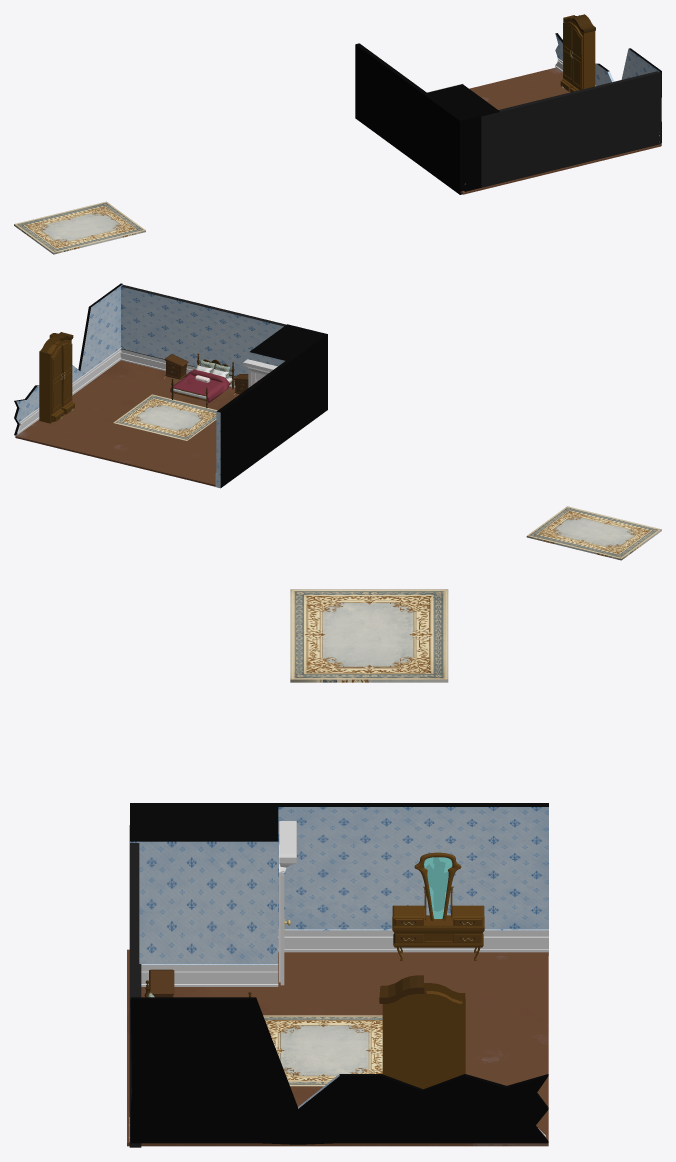
Rendered from testroombedroom.glb.
The picture shows the model from 3 angles, top to bottom: view 1: azimuth 30°, elevation 25°; view 2: azimuth 150°, elevation 25°; view 3: azimuth 270°, elevation 25°; orthographic projection. The views are drawn at different scales.
Parts seen in each view (by area): view 1: floor.003, floor.004, rug.001, floor, floor.005, Plane.015, handle_r, closetDoors; view 2: floor, floor.004, floor.003, floor.005, rug.001, rug, Plane.015, Plane, closetDoors, handle_r; view 3: floor.004, floor.005, floor, rug.001, Plane.015, rug, Cube.002, floor.003, Plane.029, Plane.017, Plane.002.
Part boxes in pixels (<box>): floor.003: <box>481,71,661,187</box>; floor.004: <box>355,43,499,194</box>; rug.001: <box>14,201,145,254</box>; floor: <box>460,68,661,194</box>; floor.005: <box>555,33,661,142</box>; Plane.015: <box>563,15,595,89</box>; handle_r: <box>571,24,583,89</box>; closetDoors: <box>563,22,573,83</box>; floor: <box>15,360,239,486</box>; floor.004: <box>215,324,327,488</box>; floor.003: <box>120,285,285,387</box>; floor.005: <box>14,283,123,435</box>; rug.001: <box>526,506,661,560</box>; rug: <box>113,394,217,440</box>; Plane.015: <box>39,336,71,423</box>; Plane: <box>170,369,229,402</box>; closetDoors: <box>51,345,62,413</box>; handle_r: <box>61,343,72,406</box>; floor.004: <box>130,803,548,986</box>; floor.005: <box>129,997,548,1144</box>; floor: <box>127,949,548,1146</box>; rug.001: <box>290,589,448,682</box>; Plane.015: <box>382,983,465,1089</box>; rug: <box>263,1015,382,1086</box>; Cube.002: <box>392,905,484,947</box>; floor.003: <box>129,825,141,1147</box>; Plane.029: <box>279,821,296,985</box>; Plane.017: <box>379,975,424,1003</box>; Plane.002: <box>425,857,448,912</box>.
Size of the model in its own units: 92.35 by 12.84 by 29.68.
43 materials, 5 textured.
